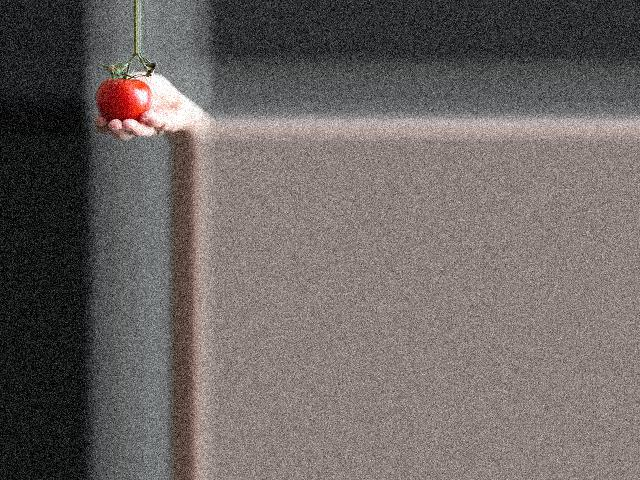tomato: (95, 77, 152, 121)
